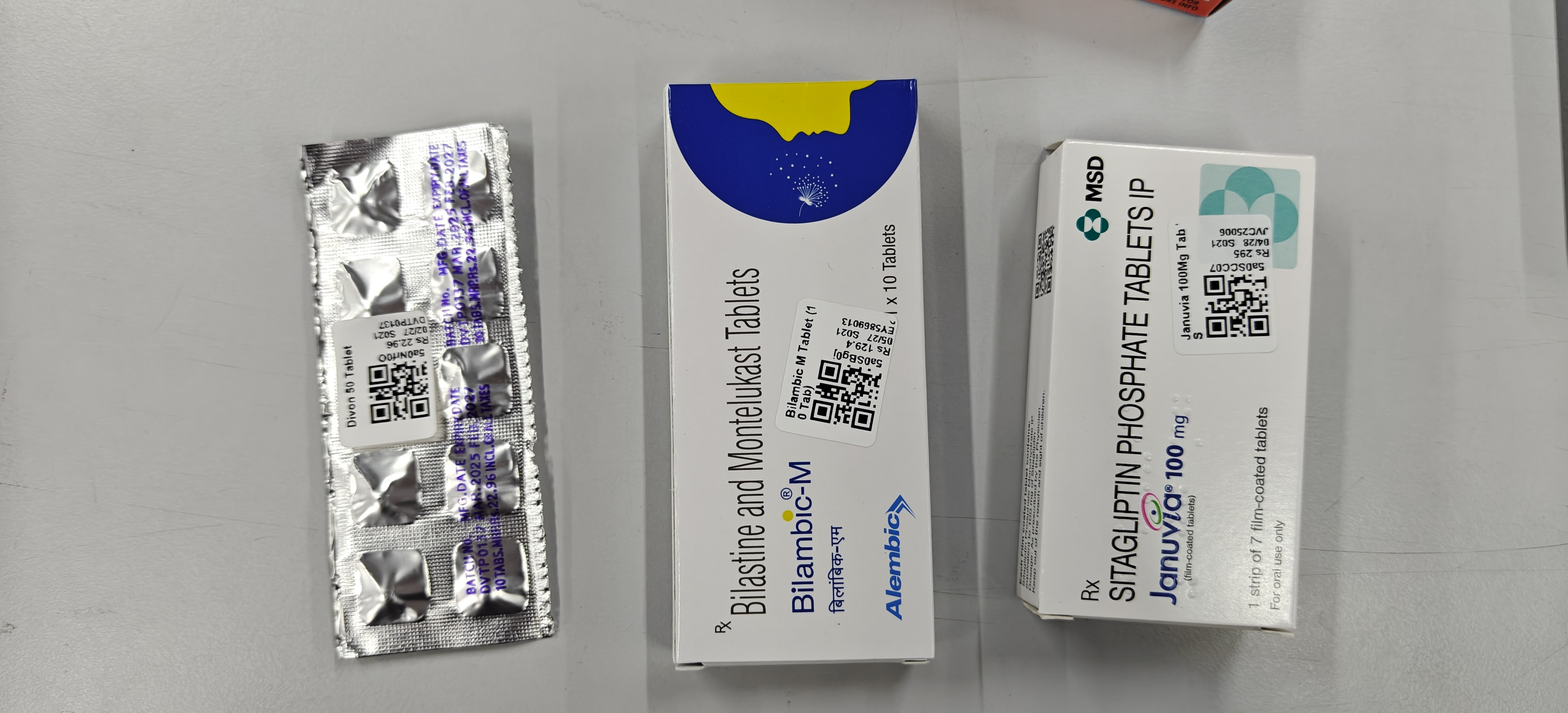qr_code: (809, 359, 883, 431), (1203, 272, 1271, 337), (367, 358, 430, 423)
